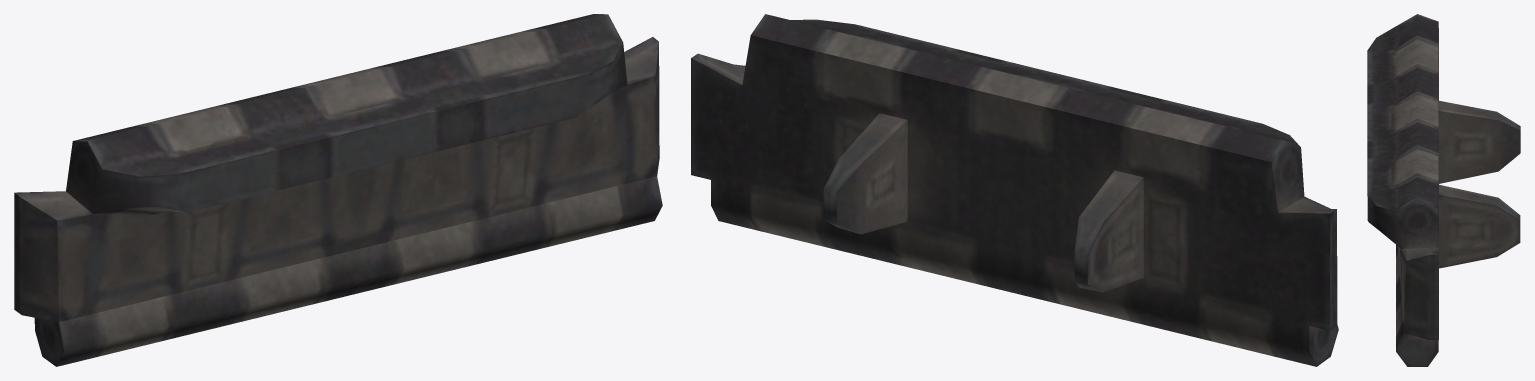
File: VK1602_track.glb
The picture shows the model from 3 angles, left to right: view 1: azimuth 30°, elevation 25°; view 2: azimuth 150°, elevation 25°; view 3: azimuth 270°, elevation 25°; orthographic projection. The views are drawn at different scales.
Parts seen in each view (by area): view 1: set_0_group_0; view 2: set_0_group_0; view 3: set_0_group_0.
Boxes of the visible parts, bbox=[...] form: set_0_group_0: bbox=[14, 14, 662, 366]; set_0_group_0: bbox=[691, 14, 1338, 366]; set_0_group_0: bbox=[1367, 14, 1520, 366].
Size of the model in its own units: 0.65 by 0.2056 by 0.1853.
Materials: 1 (1 with a texture image).
